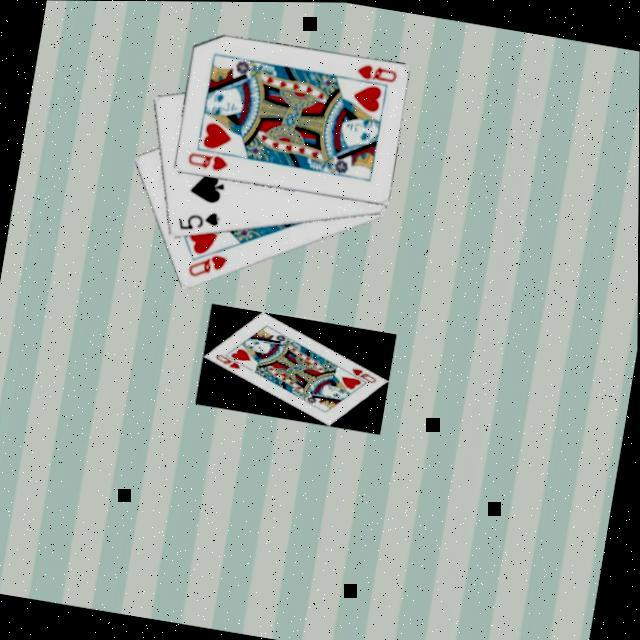5S: (175, 205, 225, 240)
QH: (185, 249, 232, 287), (348, 60, 401, 93), (184, 150, 233, 178)
